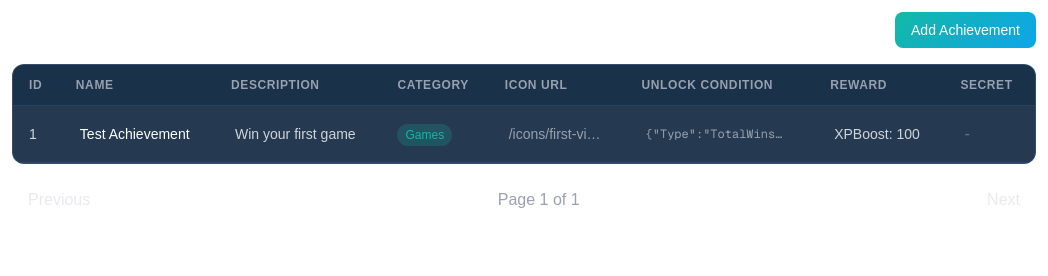
AchievementsTable › inline editing › enters edit mode when clicking on a cell
Click on the name to edit
Click the text "Test Achievement" at [135, 134], box [76,126,194,142]
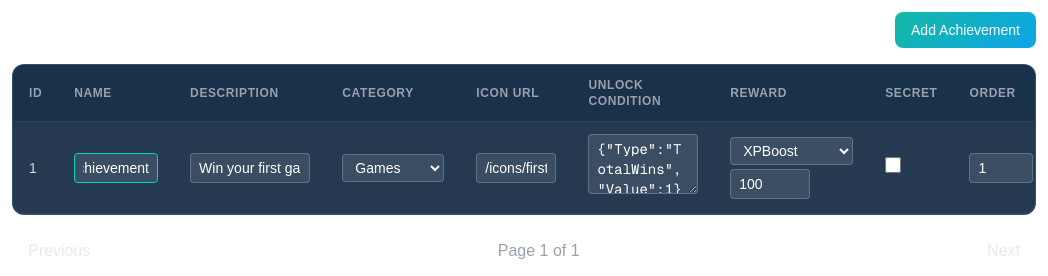
Result: the 1st field showing "Test Achievement" is shown at [74,152,158,182]
